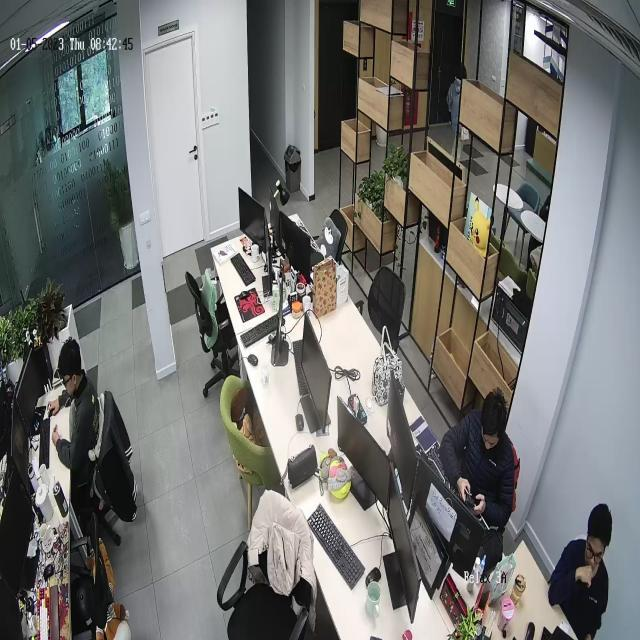person: (438, 388, 516, 536), (47, 339, 102, 500), (547, 502, 611, 640)
